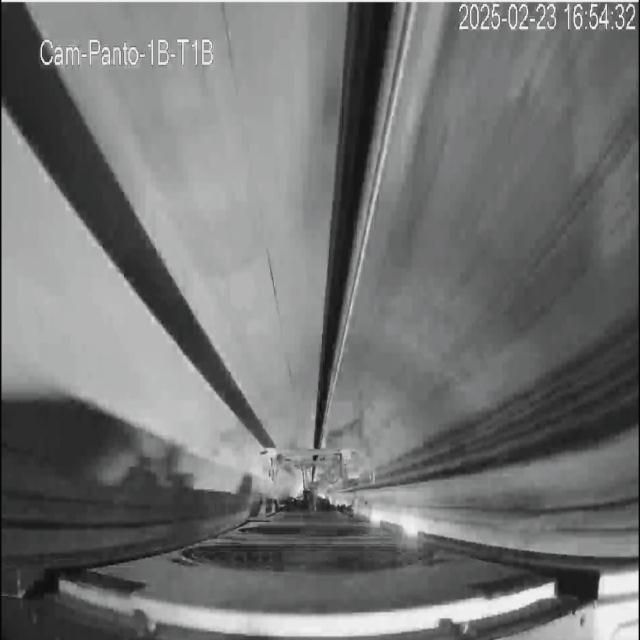Camera Stamp: (37, 30, 220, 71)
Date Stamp: (456, 3, 637, 33)
No - Spark: (234, 434, 307, 514)
